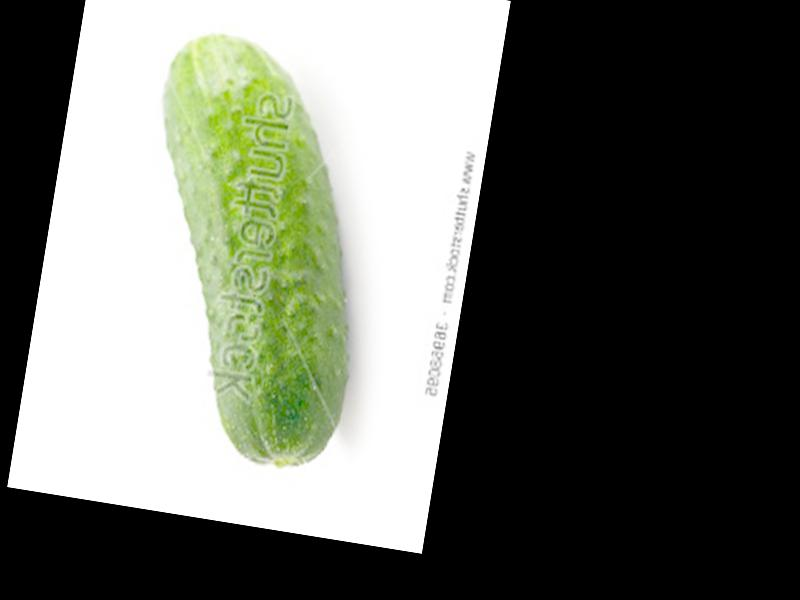Cucumber: (107, 26, 399, 475)
